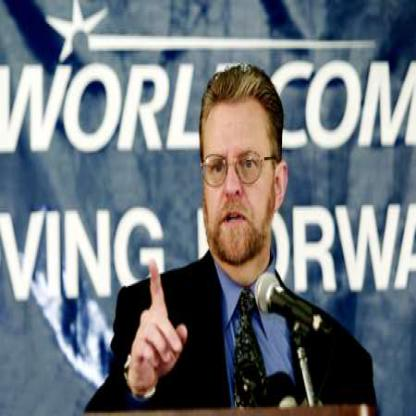face: (200, 70, 277, 269)
